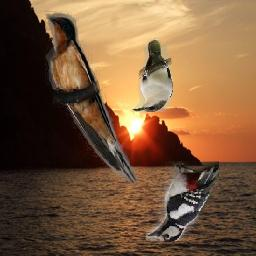Cuckoo: (133, 38, 174, 112)
Swallow: (46, 12, 141, 185)
Woodpecker: (147, 161, 220, 241)
